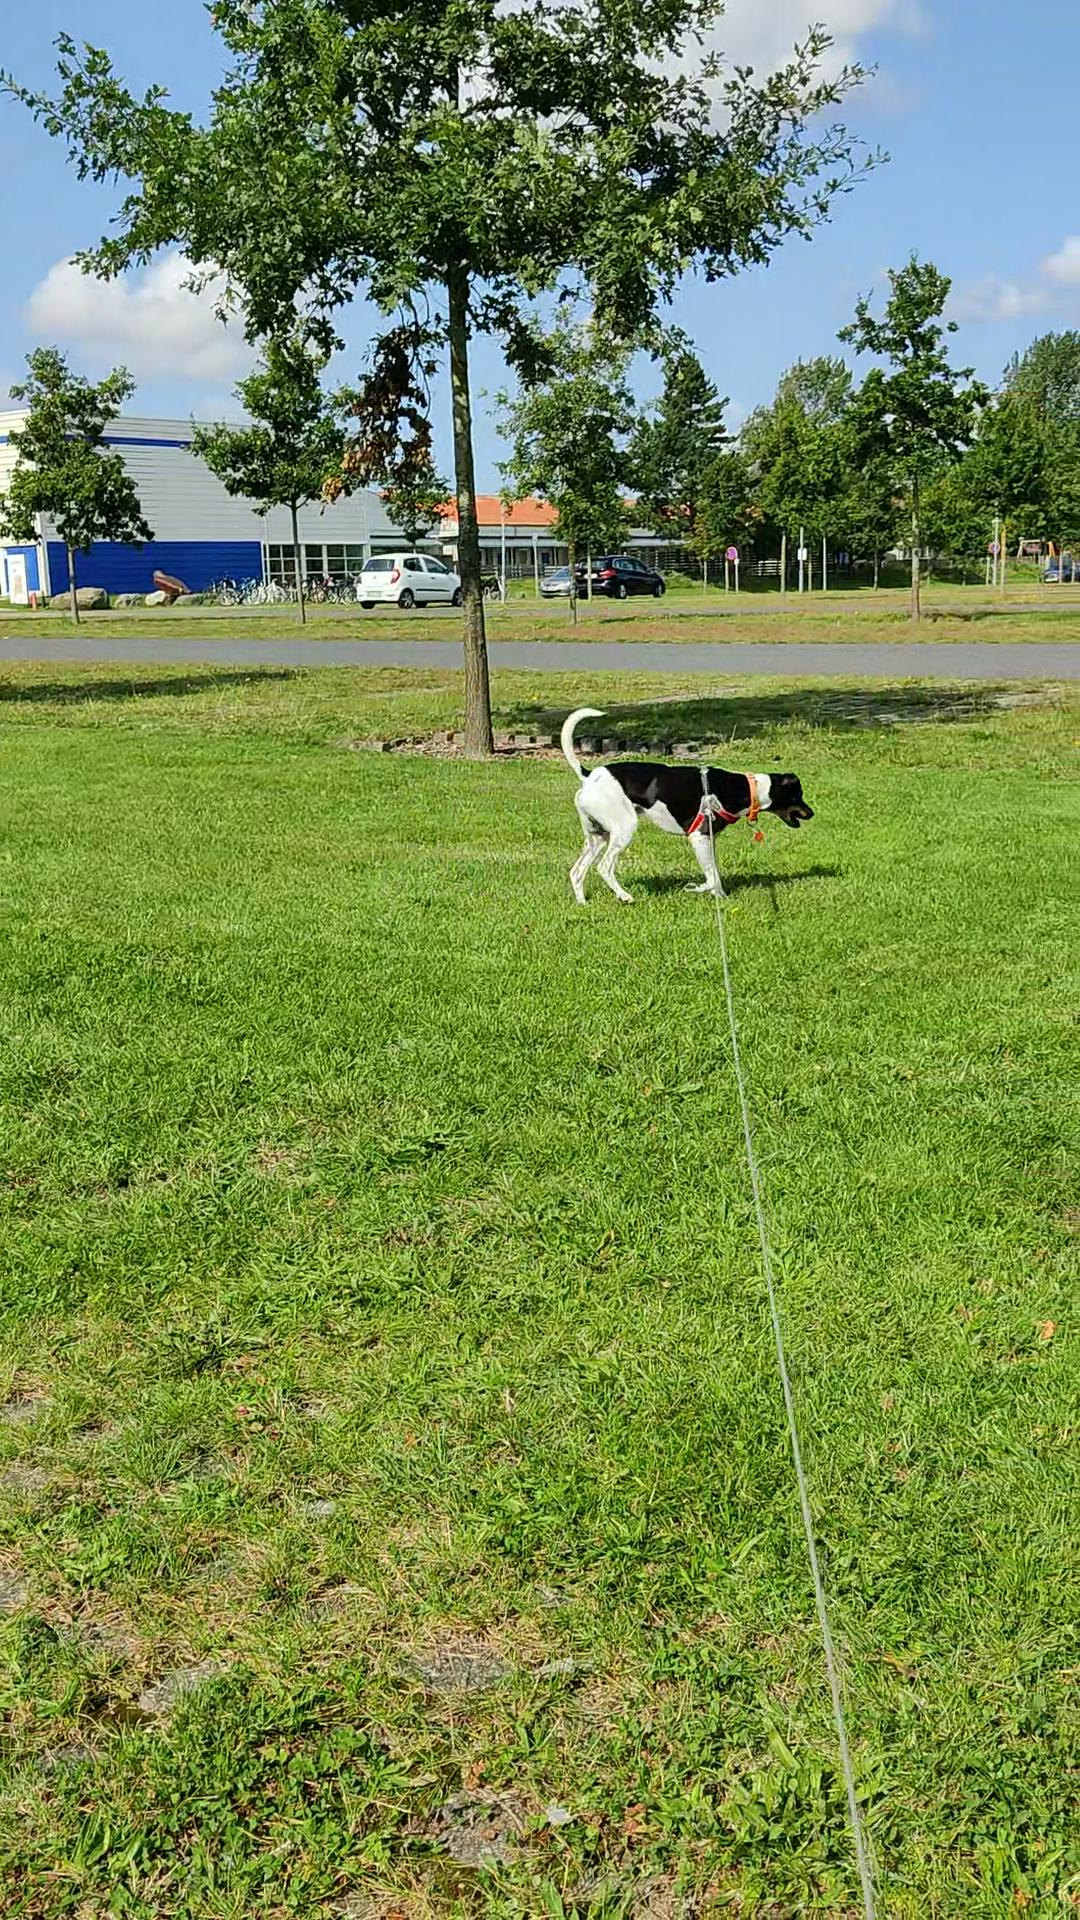Dog: (543, 702, 823, 905)
